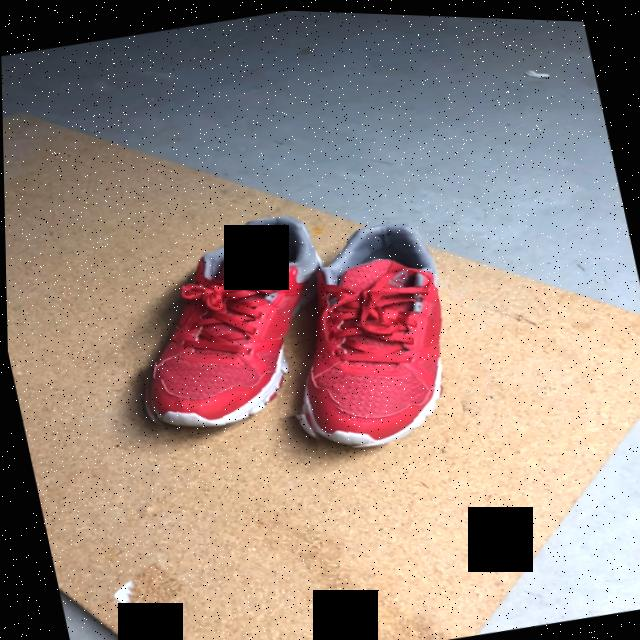shoe: (146, 215, 319, 431), (305, 221, 440, 440)
